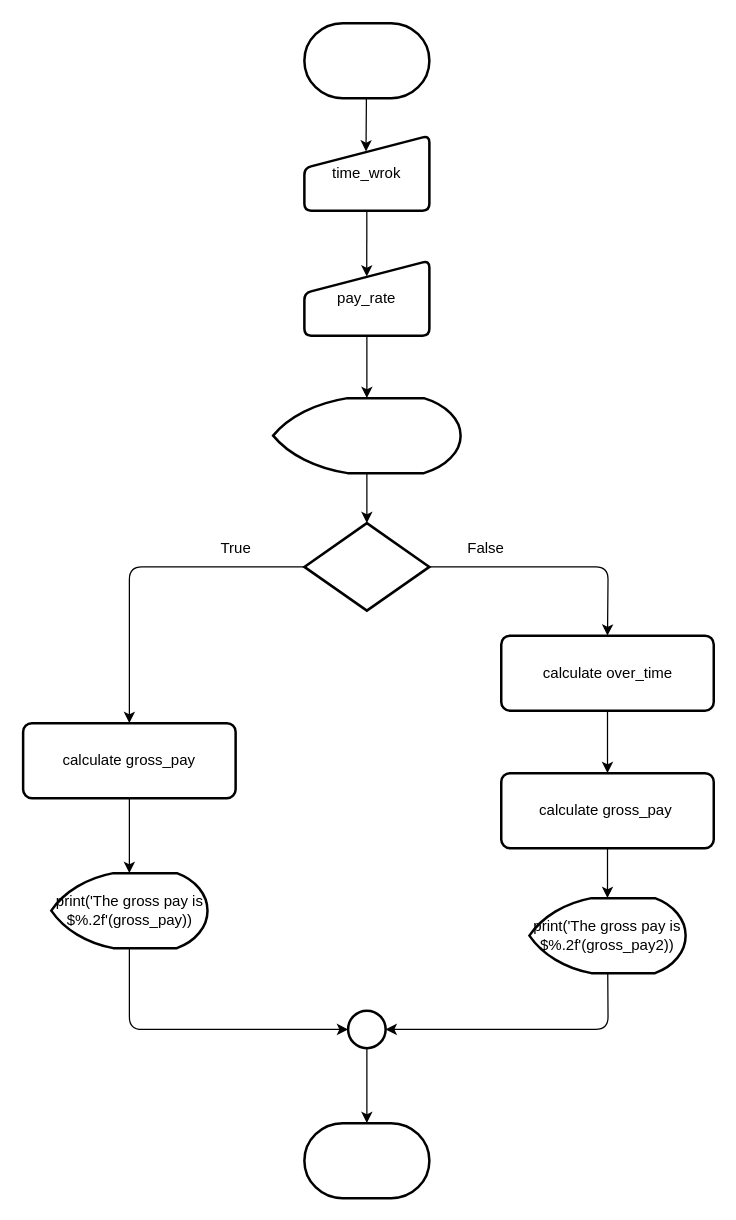
Image size: 736x1220. Some labels were removed from this diagram. The box of each missing label's shape, as (x1, y1, x2, y2) in pixels:
End: (302, 1121, 430, 1199)
print('All hours worke') print('pay rate'): (271, 396, 461, 474)
start: (302, 21, 430, 99)
time_wrok <= 40: (302, 521, 430, 611)
